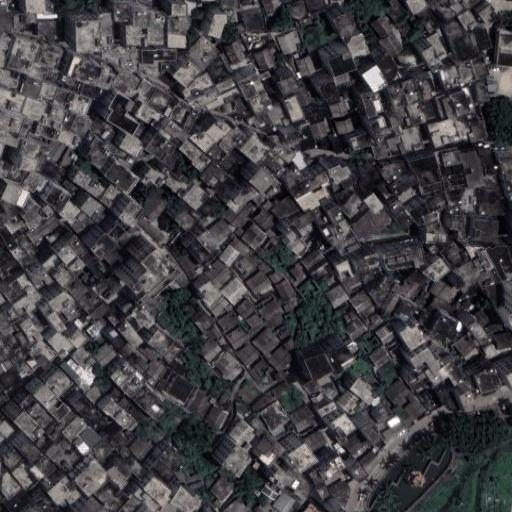building: (259, 399, 294, 441), (380, 242, 427, 273), (44, 437, 80, 475), (67, 388, 102, 427), (352, 159, 387, 196), (74, 458, 109, 495), (250, 164, 285, 200), (142, 245, 176, 282), (105, 160, 138, 194), (297, 183, 332, 215), (7, 53, 48, 80), (147, 267, 180, 300), (27, 399, 59, 433), (188, 38, 220, 72), (145, 132, 176, 165), (46, 409, 77, 442), (441, 60, 476, 89), (72, 171, 107, 200), (142, 473, 173, 505), (192, 274, 223, 306), (286, 403, 317, 435), (69, 55, 102, 85), (180, 73, 214, 102), (172, 57, 202, 89), (288, 442, 318, 474), (399, 268, 428, 301), (446, 22, 471, 60), (240, 133, 270, 164), (179, 141, 210, 171), (168, 200, 198, 231), (160, 167, 191, 197), (13, 411, 43, 441), (181, 181, 210, 212), (252, 325, 281, 356), (386, 199, 414, 231), (171, 484, 203, 512), (215, 352, 244, 382), (33, 212, 61, 243), (187, 388, 216, 417), (45, 368, 73, 398), (206, 216, 234, 246), (75, 22, 102, 53), (144, 437, 171, 468), (380, 160, 412, 186), (333, 9, 361, 38), (370, 10, 398, 39), (429, 119, 458, 147), (341, 193, 370, 221), (167, 376, 196, 404), (160, 119, 188, 148), (132, 383, 160, 412), (478, 189, 508, 216), (117, 319, 144, 349), (26, 262, 53, 292), (351, 212, 378, 241), (228, 416, 255, 445), (12, 463, 39, 492), (201, 162, 228, 191), (218, 126, 245, 155), (120, 370, 147, 399), (328, 344, 355, 373), (48, 475, 75, 504), (361, 422, 386, 453), (146, 328, 174, 355), (114, 71, 142, 98), (82, 252, 109, 280), (199, 337, 226, 365), (305, 352, 332, 380), (349, 377, 377, 404), (214, 438, 240, 467), (330, 412, 356, 441), (17, 275, 42, 305), (486, 247, 508, 281), (469, 218, 500, 242), (475, 364, 501, 392), (91, 232, 117, 260), (206, 117, 232, 145), (132, 486, 160, 512), (218, 149, 244, 177), (241, 223, 267, 251), (399, 398, 425, 426), (30, 455, 56, 483), (87, 139, 113, 166), (150, 458, 176, 485), (35, 44, 64, 68), (453, 114, 476, 144), (390, 172, 416, 198), (241, 8, 267, 34), (119, 131, 145, 157), (48, 288, 74, 314), (400, 323, 425, 350), (435, 314, 462, 339), (422, 258, 449, 283), (278, 30, 303, 57), (34, 384, 61, 409), (191, 127, 216, 154), (273, 196, 298, 223), (111, 405, 136, 432), (65, 274, 90, 301), (78, 288, 103, 315), (223, 277, 248, 304), (385, 379, 410, 406), (209, 475, 234, 502), (177, 251, 201, 279), (259, 441, 283, 469), (345, 30, 368, 59), (362, 88, 385, 117), (109, 111, 138, 134), (462, 149, 481, 184), (428, 31, 450, 61), (19, 440, 44, 466), (45, 186, 70, 212), (22, 95, 48, 120), (59, 200, 84, 226), (185, 238, 210, 264), (62, 416, 87, 442), (209, 258, 234, 284), (328, 51, 355, 75), (234, 183, 258, 210), (196, 193, 220, 220), (52, 261, 76, 288), (277, 72, 300, 100), (267, 102, 290, 130), (410, 154, 440, 175), (335, 176, 360, 201), (362, 63, 386, 89), (214, 175, 238, 201), (282, 163, 306, 189), (146, 398, 170, 424), (103, 324, 127, 350), (268, 347, 292, 373), (235, 254, 259, 280), (130, 434, 154, 460), (401, 125, 424, 152), (12, 37, 39, 60), (422, 44, 444, 72), (78, 494, 112, 512), (350, 290, 374, 315), (392, 298, 416, 323), (440, 242, 464, 267), (148, 88, 172, 113), (21, 171, 46, 195), (92, 344, 116, 369), (260, 298, 284, 323), (303, 427, 327, 452), (70, 452, 94, 477), (468, 320, 491, 346), (381, 32, 404, 58), (251, 389, 277, 412), (496, 30, 512, 67), (493, 245, 512, 276), (469, 78, 490, 106), (47, 333, 71, 357), (195, 230, 219, 254), (454, 334, 477, 359), (374, 181, 397, 206), (206, 403, 229, 428), (1, 446, 24, 471), (111, 361, 134, 386), (337, 388, 360, 413), (450, 90, 472, 116), (368, 345, 391, 369), (395, 46, 418, 70), (328, 160, 352, 183), (12, 293, 35, 317), (137, 269, 160, 293), (81, 196, 104, 220), (72, 346, 95, 370), (138, 218, 162, 241), (221, 207, 244, 231), (302, 248, 325, 272), (20, 201, 43, 225), (79, 424, 102, 448), (349, 437, 372, 461), (66, 235, 88, 260), (250, 91, 272, 116), (120, 201, 142, 226), (72, 211, 94, 236), (416, 76, 437, 102), (387, 80, 407, 107), (394, 103, 414, 130), (402, 77, 421, 105), (458, 388, 477, 416), (374, 322, 397, 345), (325, 285, 348, 308), (260, 151, 283, 174), (321, 455, 344, 478), (387, 0, 409, 24), (324, 223, 346, 247), (370, 206, 392, 230), (3, 280, 25, 304), (133, 305, 155, 329), (30, 339, 54, 361), (226, 326, 248, 350), (450, 216, 471, 241), (313, 204, 334, 229), (149, 197, 170, 222), (225, 38, 246, 63), (472, 24, 491, 51), (285, 96, 304, 123), (0, 199, 17, 229), (304, 25, 326, 48), (170, 100, 192, 123), (164, 148, 186, 171), (309, 260, 332, 282), (5, 216, 27, 239), (247, 271, 269, 294), (351, 408, 373, 431), (2, 70, 26, 91), (68, 93, 89, 117), (254, 45, 275, 69), (76, 80, 101, 100), (34, 123, 59, 143), (371, 116, 389, 143), (51, 87, 73, 109), (108, 466, 130, 488), (196, 88, 219, 109), (46, 222, 67, 245), (272, 491, 295, 512), (349, 132, 373, 152), (47, 139, 67, 163), (274, 278, 294, 302), (208, 11, 226, 37), (344, 318, 365, 340), (479, 3, 500, 25), (439, 283, 460, 305), (70, 115, 91, 137), (17, 250, 39, 271), (68, 327, 89, 349), (237, 345, 258, 367), (270, 467, 292, 488), (95, 439, 116, 461), (381, 291, 401, 314), (457, 8, 477, 31), (419, 10, 439, 33), (337, 236, 360, 256), (118, 495, 145, 512), (440, 388, 459, 412), (239, 76, 258, 100), (410, 201, 428, 226), (21, 77, 42, 98), (207, 143, 228, 164), (410, 348, 432, 368), (288, 0, 310, 20), (145, 167, 167, 187), (209, 60, 229, 82), (27, 210, 47, 232), (87, 323, 107, 345), (220, 244, 240, 266), (470, 55, 489, 78), (419, 98, 438, 121), (36, 494, 60, 512), (99, 13, 113, 43), (57, 245, 77, 266), (43, 67, 63, 88), (47, 103, 68, 123), (96, 67, 116, 88), (134, 102, 154, 123), (271, 144, 291, 165), (71, 434, 91, 455), (91, 301, 111, 322), (203, 269, 224, 289), (383, 422, 404, 442), (106, 492, 127, 512), (127, 459, 147, 480), (476, 146, 495, 168), (335, 260, 354, 282), (58, 75, 80, 94), (308, 171, 330, 190), (101, 185, 120, 207), (111, 147, 133, 166), (48, 403, 70, 422), (425, 193, 448, 211), (12, 16, 35, 34), (182, 108, 199, 132), (222, 497, 249, 512), (37, 21, 57, 41), (285, 127, 305, 147), (218, 311, 238, 331), (477, 271, 496, 292), (327, 204, 346, 225), (365, 192, 384, 213), (2, 184, 21, 205), (145, 359, 164, 380), (106, 245, 125, 266), (309, 465, 328, 486), (418, 169, 441, 186), (367, 250, 384, 273), (372, 140, 391, 160), (473, 307, 492, 327), (293, 182, 313, 201), (107, 223, 126, 243), (19, 141, 39, 160), (357, 449, 377, 468), (370, 401, 389, 421), (341, 276, 362, 294), (297, 55, 315, 76), (49, 314, 67, 335), (220, 87, 241, 105), (216, 77, 237, 95), (291, 150, 309, 171), (168, 19, 193, 34), (408, 103, 425, 125), (323, 80, 340, 102), (0, 308, 17, 330), (354, 253, 370, 276), (234, 63, 253, 82), (59, 362, 78, 381), (452, 162, 467, 186), (336, 117, 354, 137), (332, 101, 350, 121), (263, 0, 283, 18), (133, 9, 153, 27), (38, 83, 56, 103), (301, 124, 316, 148), (138, 294, 156, 314), (129, 355, 149, 373), (237, 299, 255, 319), (314, 481, 332, 501), (387, 136, 404, 157), (165, 341, 182, 362), (111, 94, 128, 115), (303, 101, 320, 122), (441, 96, 457, 118), (16, 156, 38, 172), (282, 230, 304, 246), (293, 240, 311, 259), (253, 110, 272, 128), (205, 95, 224, 113), (126, 313, 144, 332), (196, 314, 214, 333), (98, 487, 116, 506), (21, 318, 38, 338), (290, 263, 307, 283), (217, 102, 237, 119), (16, 236, 33, 256), (350, 461, 367, 481), (226, 451, 242, 472), (488, 285, 504, 306), (338, 219, 354, 240), (147, 27, 168, 43), (42, 116, 64, 131), (326, 497, 348, 512), (494, 332, 512, 350), (42, 161, 60, 179), (118, 341, 136, 359), (231, 237, 249, 255), (397, 188, 416, 205), (295, 212, 314, 229), (102, 398, 119, 417), (207, 324, 224, 343), (441, 150, 461, 166), (122, 51, 138, 71), (5, 333, 21, 353), (126, 27, 143, 45), (137, 81, 155, 98), (295, 90, 313, 107), (86, 385, 103, 403), (77, 368, 95, 385), (311, 121, 327, 140), (60, 149, 76, 168), (305, 0, 326, 14), (116, 1, 130, 22), (429, 279, 446, 296), (485, 320, 502, 337), (74, 376, 91, 393), (65, 358, 82, 375), (117, 297, 134, 314), (104, 283, 121, 300), (272, 381, 289, 398), (65, 488, 82, 505), (9, 245, 25, 263), (261, 486, 279, 502), (56, 131, 75, 146), (302, 500, 325, 512), (421, 181, 442, 194), (173, 360, 189, 377), (68, 257, 84, 274), (114, 431, 130, 448), (479, 252, 493, 271), (15, 190, 29, 209), (249, 74, 263, 93), (24, 0, 46, 12), (448, 270, 464, 286), (333, 70, 350, 85), (473, 124, 488, 141), (346, 340, 361, 357), (269, 268, 284, 285), (426, 355, 440, 373), (466, 245, 484, 259), (92, 117, 105, 136), (156, 50, 178, 61), (417, 310, 432, 326), (232, 97, 247, 113), (36, 355, 51, 371), (26, 357, 41, 373), (73, 314, 88, 330), (258, 260, 273, 276), (0, 160, 12, 180), (42, 302, 56, 319), (211, 303, 225, 320), (168, 34, 186, 47), (231, 57, 249, 70), (15, 330, 28, 348), (483, 344, 498, 359), (299, 222, 314, 237), (367, 311, 381, 327), (107, 312, 121, 328), (276, 324, 290, 340), (254, 363, 268, 379), (388, 115, 401, 132), (426, 232, 446, 243), (423, 209, 438, 223), (280, 222, 294, 237), (259, 358, 273, 373), (305, 380, 319, 395), (118, 445, 132, 460), (332, 137, 344, 154), (174, 5, 188, 19), (142, 50, 156, 64), (124, 100, 138, 114), (129, 280, 143, 294), (227, 199, 241, 213), (283, 337, 297, 351), (362, 305, 377, 318), (390, 280, 403, 295), (220, 297, 232, 313), (442, 175, 456, 188), (41, 203, 54, 217), (143, 347, 156, 361), (95, 317, 108, 331), (247, 314, 260, 328), (250, 369, 263, 383), (155, 377, 167, 391), (56, 310, 68, 324), (253, 193, 265, 206), (324, 274, 336, 287), (2, 325, 14, 338), (386, 416, 399, 428), (342, 311, 353, 325), (108, 51, 122, 62), (223, 0, 240, 9), (109, 387, 121, 399), (261, 199, 272, 211), (119, 396, 130, 408), (370, 393, 381, 405), (164, 105, 174, 118), (151, 111, 162, 122), (348, 310, 358, 322), (253, 504, 267, 512), (29, 504, 43, 512), (188, 5, 199, 15), (260, 71, 271, 81), (26, 309, 36, 320), (473, 258, 483, 268), (291, 478, 300, 489), (429, 245, 438, 255), (168, 98, 177, 108), (285, 302, 294, 312), (266, 229, 275, 238), (34, 332, 42, 342), (488, 83, 496, 92), (0, 7, 7, 16), (249, 118, 256, 126), (244, 0, 255, 5), (436, 28, 442, 37), (162, 64, 168, 73), (293, 52, 300, 58), (101, 51, 108, 57), (88, 0, 108, 2), (409, 395, 415, 401)
